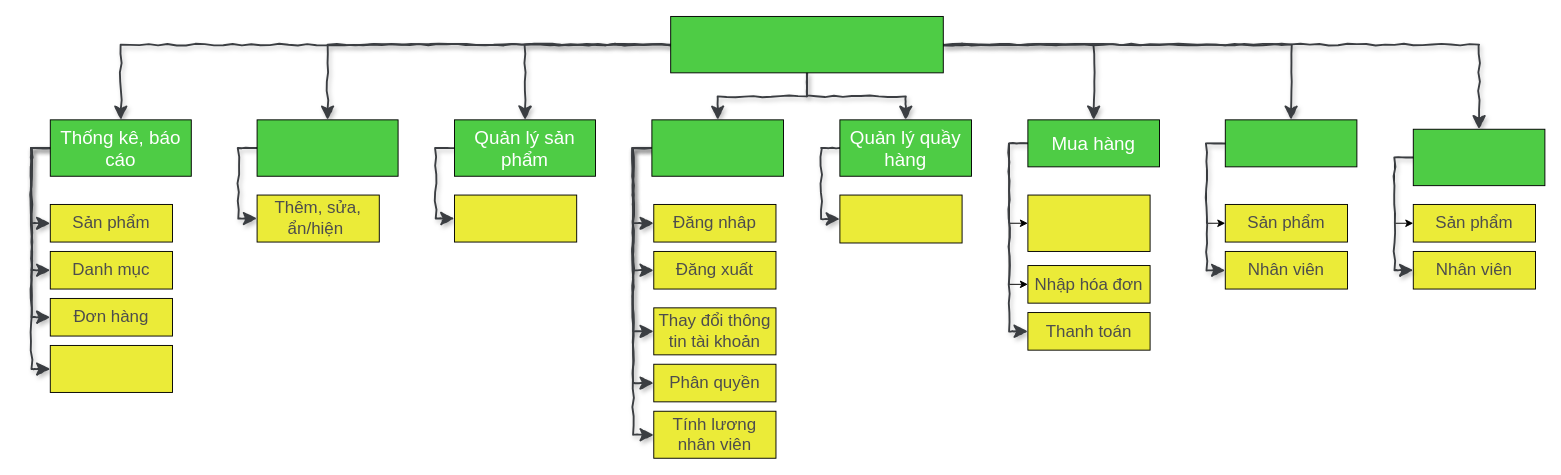
Image size: 1561x475. Some labels were removed from this diagram. Each missing label, with the centre of its shape:
"Hệ thống phầm mềm quản lý cửa hàng" belongs at (806,44).
"kiểm tra thông tin sản phẩm" belongs at (1088,222).
"Phản hồi khách hàng" belongs at (110,368).
"Quản lý danh mục" belongs at (327,147).
"Quản lý nhân viên" belongs at (717,147).
"Thêm , sửa, xóa , ẩn/hiện" belongs at (900,218).
"Thêm, sửa, xóa, ẩn/hiện" belongs at (515,218).
"Tìm kiếm" belongs at (1290,143).
"Đánh giá của khách hàng" belongs at (1478,157).
